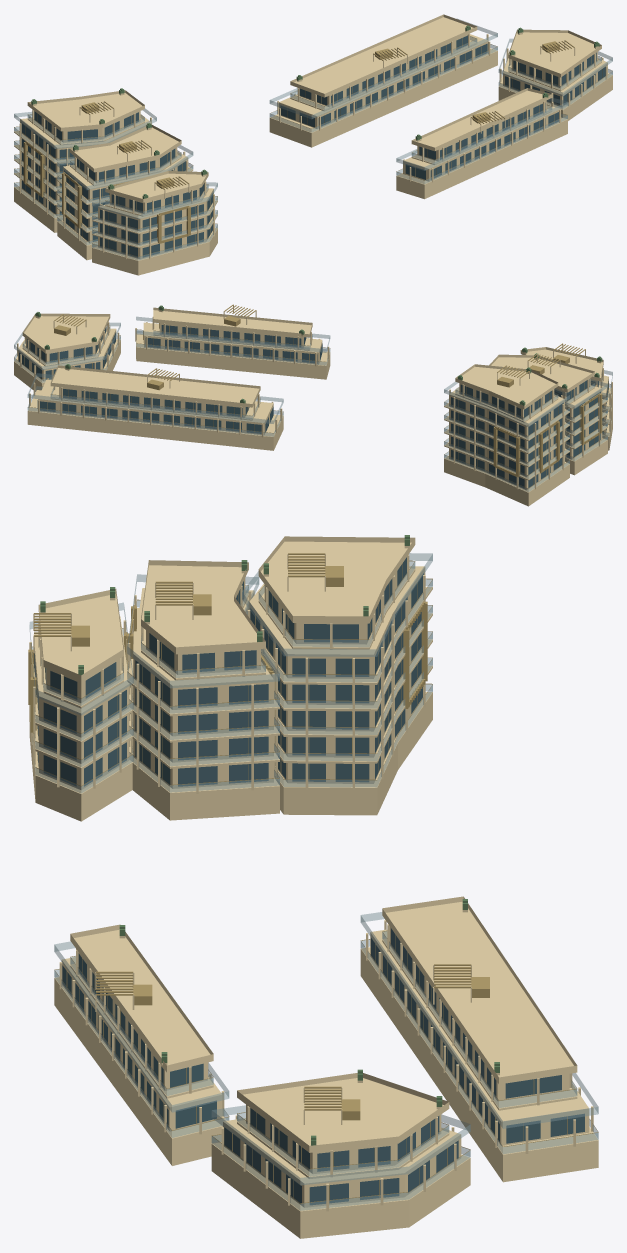
Rendered from ta-monita-29.glb.
3 renders of one model, top to bottom at view 1: azimuth 30°, elevation 25°; view 2: azimuth 150°, elevation 25°; view 3: azimuth 270°, elevation 25°, orthographic. The views are drawn at different scales.
Visible parts, largest first — view 1: Poolhaeuser Nord, Suedwest Spitze, Poolhaeuser Sued, Suedwest Nord, Suedwest Mitte, Poolhaeuser Ost; view 2: Poolhaeuser Nord, Suedwest Nord, Poolhaeuser Sued, Poolhaeuser Ost, Suedwest Mitte, Suedwest Spitze; view 3: Suedwest Nord, Poolhaeuser Nord, Suedwest Mitte, Poolhaeuser Ost, Poolhaeuser Sued, Suedwest Spitze.
Part boxes in pixels (x1,y1,x2,y2): Poolhaeuser Nord: (269,14,497,147); Suedwest Spitze: (92,169,217,275); Poolhaeuser Sued: (396,88,567,199); Suedwest Nord: (14,88,156,232); Suedwest Mitte: (57,123,193,260); Poolhaeuser Ost: (498,27,612,120); Poolhaeuser Nord: (27,364,283,450); Suedwest Nord: (444,364,569,506); Poolhaeuser Sued: (135,304,330,379); Poolhaeuser Ost: (14,312,120,391); Suedwest Mitte: (489,353,607,475); Suedwest Spitze: (520,343,612,450); Suedwest Nord: (242,535,432,815); Poolhaeuser Nord: (360,896,598,1182); Suedwest Mitte: (127,560,279,820); Poolhaeuser Ost: (211,1069,470,1238); Poolhaeuser Sued: (54,924,229,1165); Suedwest Spitze: (28,587,133,821).
Size of the model in its own units: 133 by 23.67 by 61.
